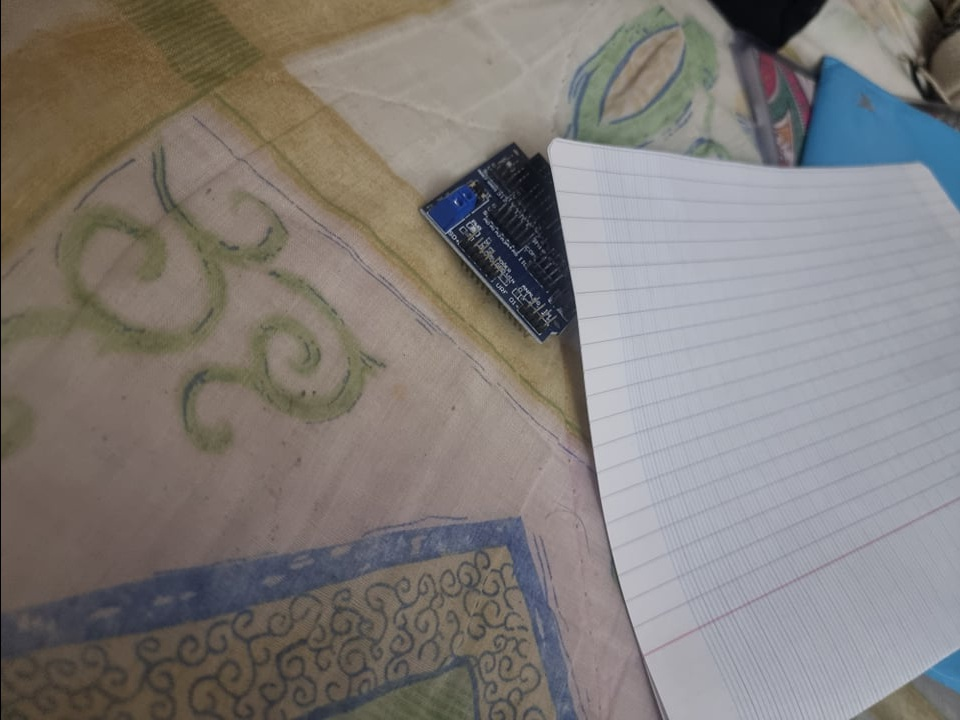5V EXPANSION: (417, 143, 579, 342)
